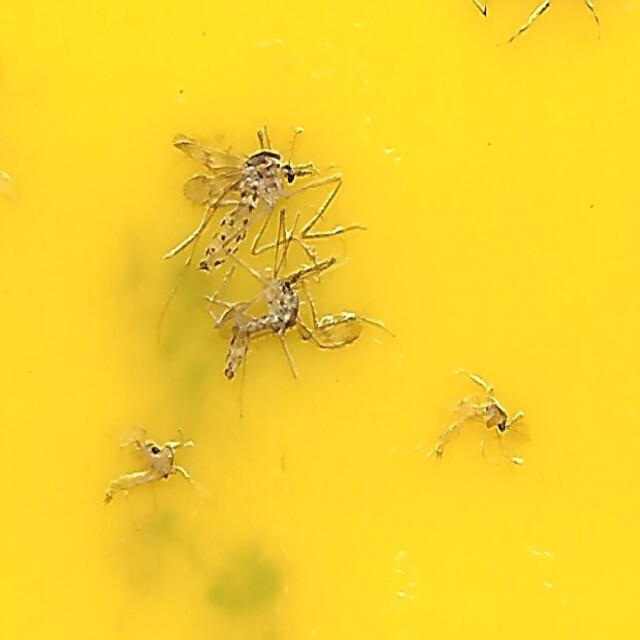Nematocera: (166, 125, 305, 276), (216, 264, 370, 390), (431, 382, 537, 458), (103, 441, 185, 515)
